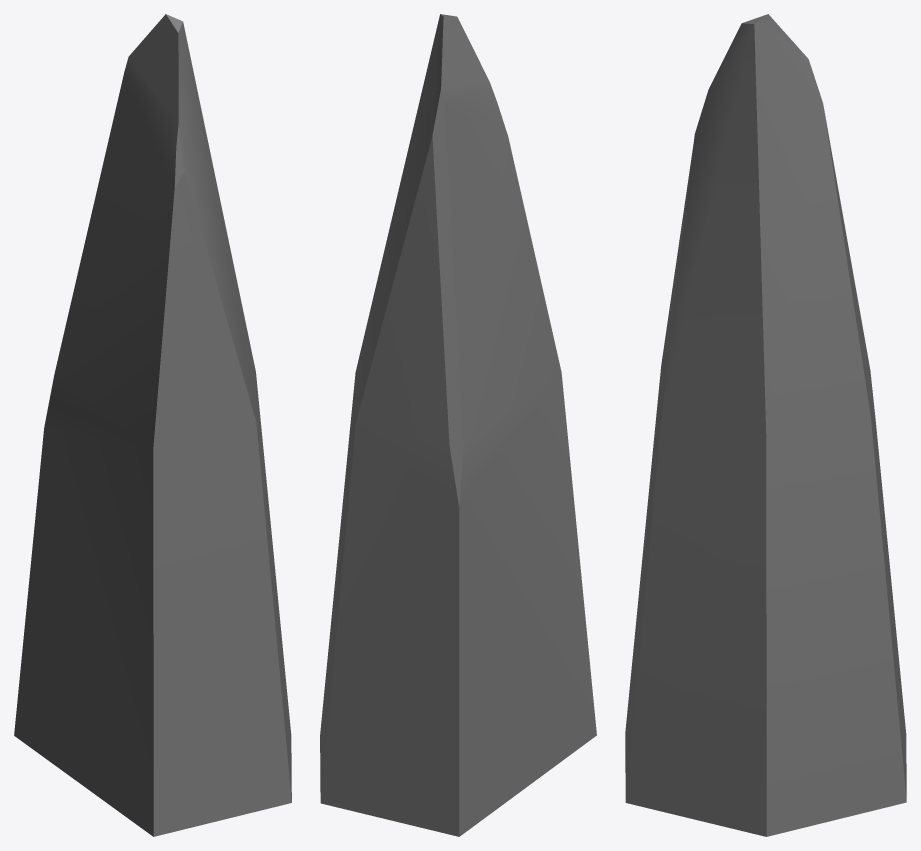
File: rock18.fbx
The picture shows the model from 3 angles, left to right: view 1: azimuth 30°, elevation 25°; view 2: azimuth 150°, elevation 25°; view 3: azimuth 270°, elevation 25°; orthographic projection.
Parts seen in each view (by area): view 1: rock12; view 2: rock12; view 3: rock12.
Boxes of the visible parts, x1=… form: rock12: x1=14, y1=14, x2=291, y2=836; rock12: x1=320, y1=14, x2=596, y2=836; rock12: x1=625, y1=14, x2=906, y2=836.
Bounding box in the file's own units: 1105 × 3805 × 1276.
Materials: 1 (1 with a texture image).
